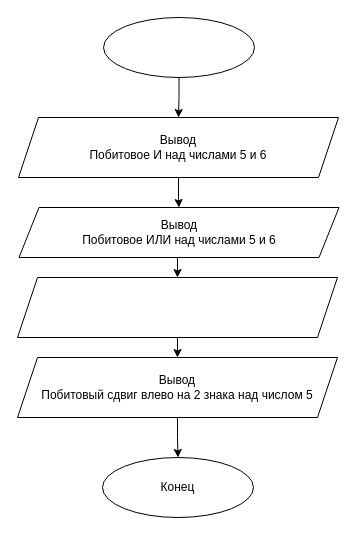
The diagram is 357 pixels wide and 535 high, and some of its shapes have lost their labels. Here are the shapes that lost their labels. From the top down, the centre of each, then its label:
At point (178, 47): "Начало".
At point (177, 307): "Вывод Побитовый сдвиг вправо на 2 знака над числом 5".
